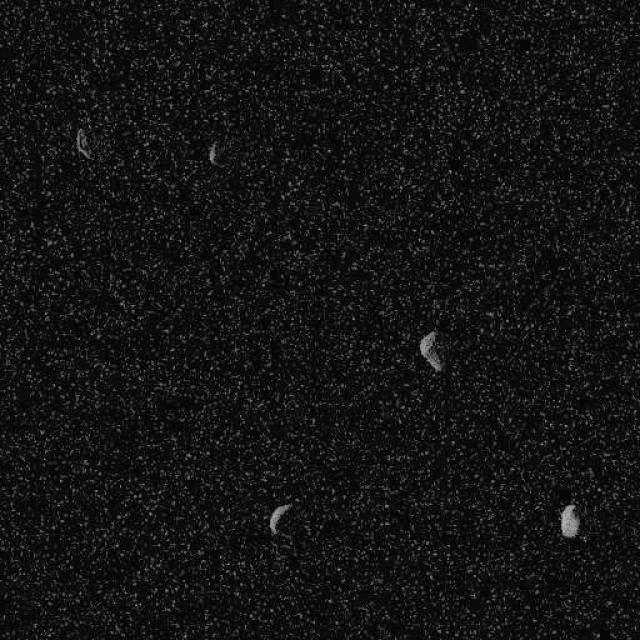D2: (418, 328, 447, 372), (268, 502, 292, 536), (559, 502, 580, 538), (74, 126, 94, 160), (206, 140, 222, 166)
